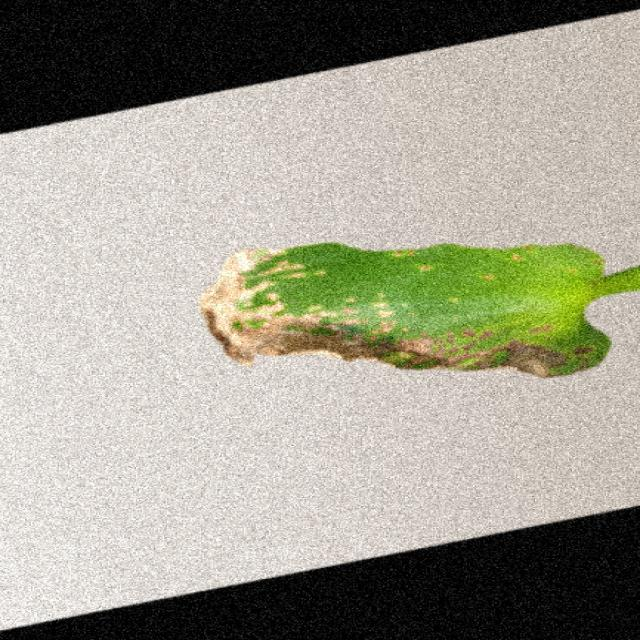daun berpenyakit bercak: (200, 244, 638, 377)
